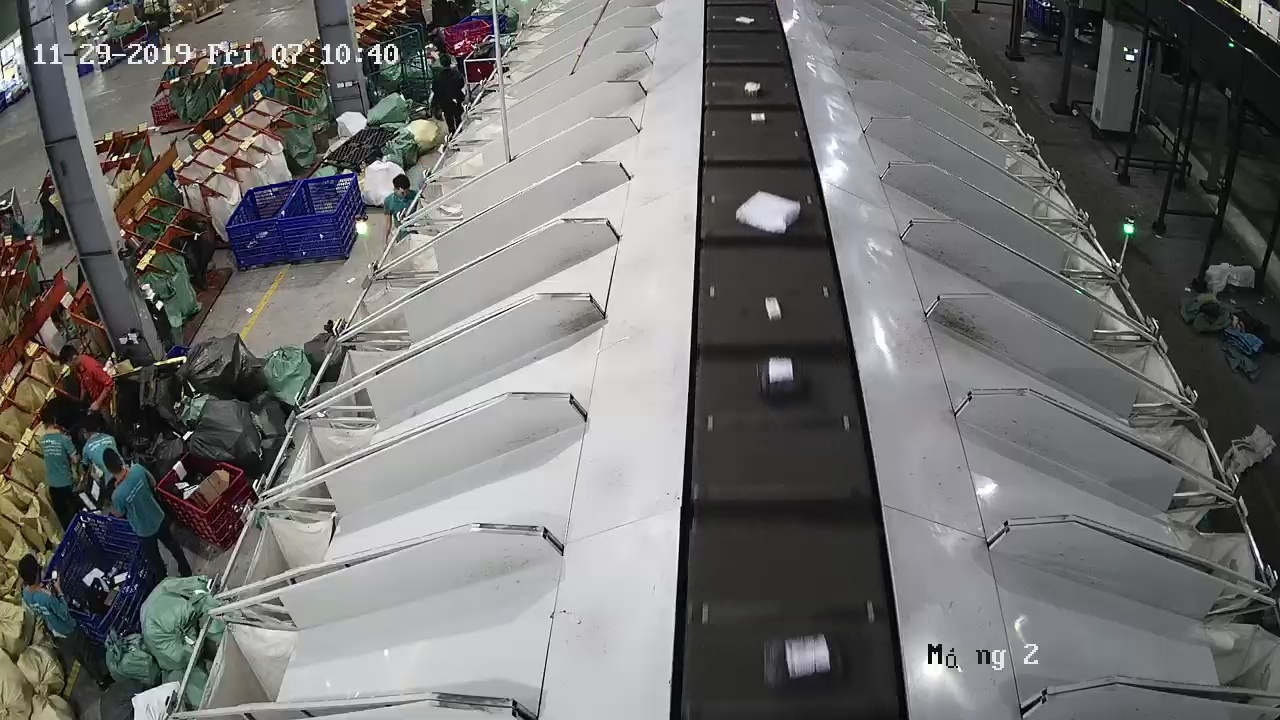parcel: (763, 632, 843, 694), (735, 190, 801, 234), (757, 355, 803, 400), (764, 297, 783, 322)
